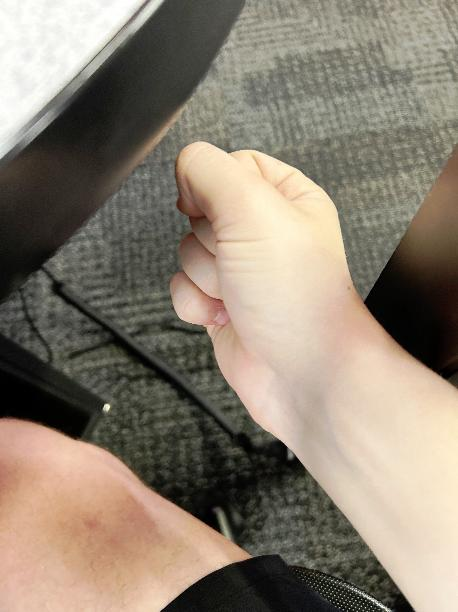Rock: (149, 121, 399, 467)
